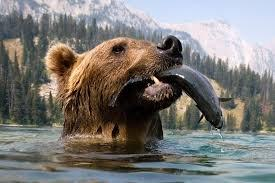bear: (47, 36, 183, 149)
